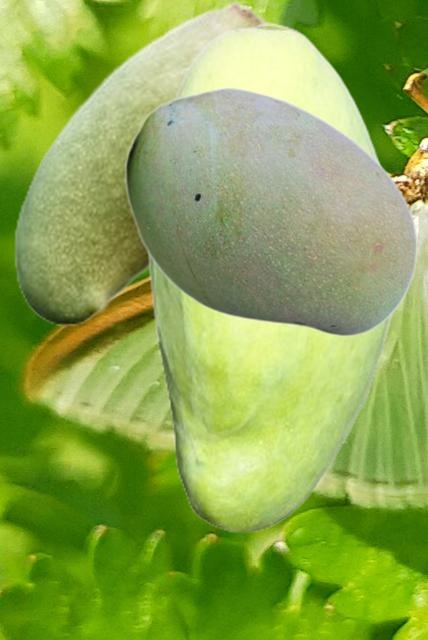green_mango: (146, 22, 396, 532), (13, 0, 278, 324), (124, 86, 417, 336)
